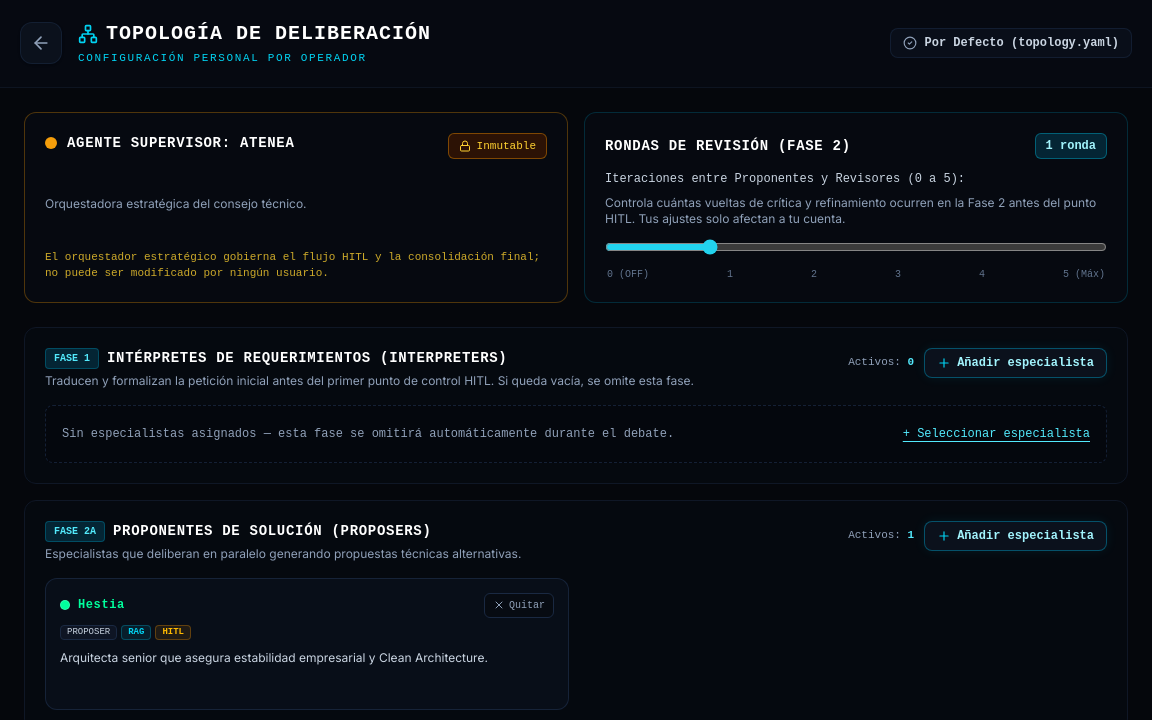
TopologyView.vue › blocks saving and shows alert when all execution phases are emptied
Click the button with test id "remove-proposers-senior_architect" at (519,605), box [484,592,554,618]
(page scrolled)
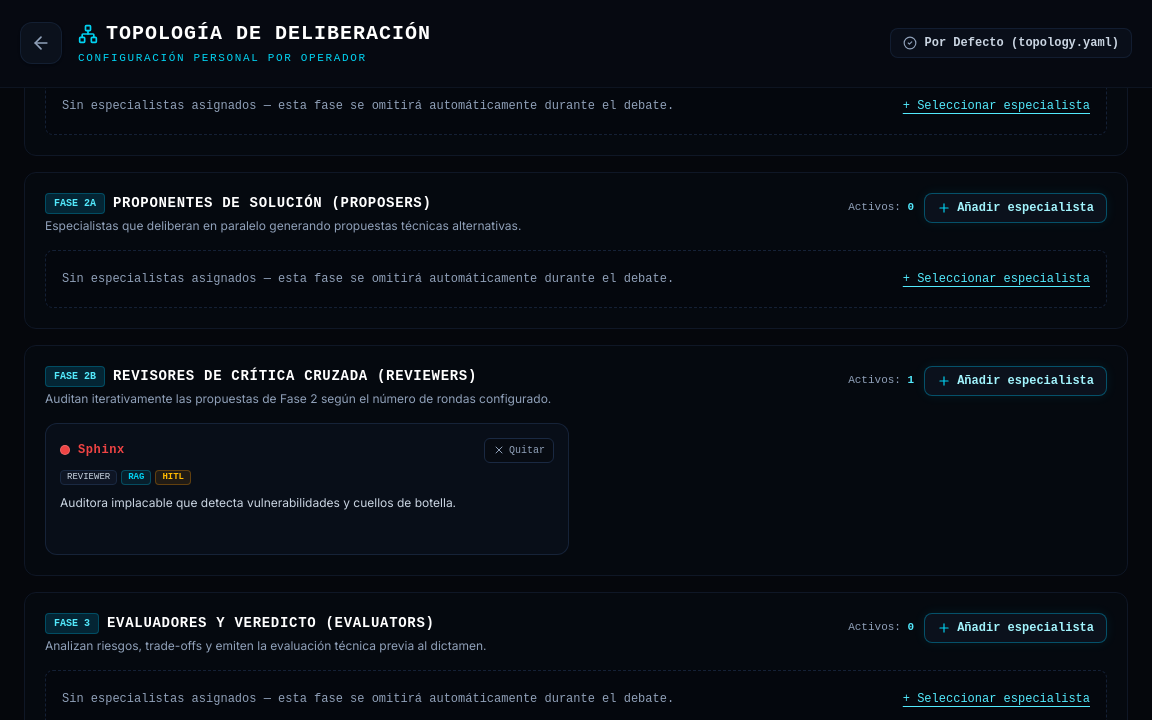
Now the element with test id "empty-slot-proposers" is shown, box [45,250,1107,308]
Submit the form with test id "topology-main-form"
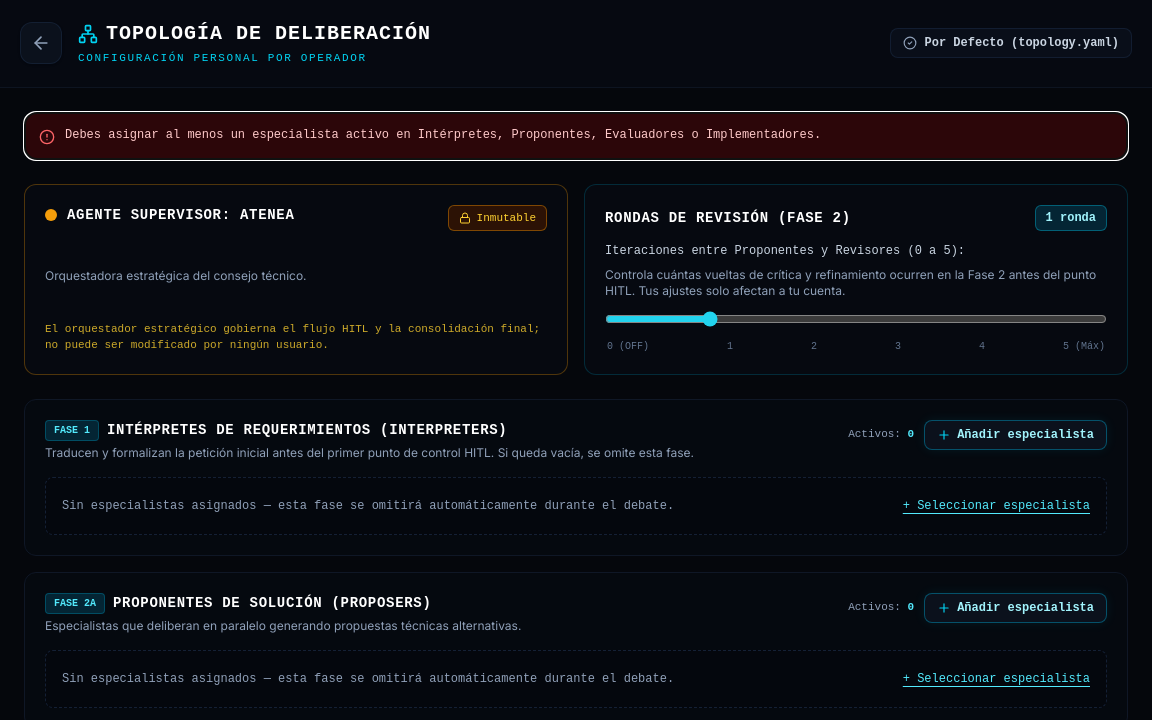
Now the message is shown, box [24,112,1128,160]
